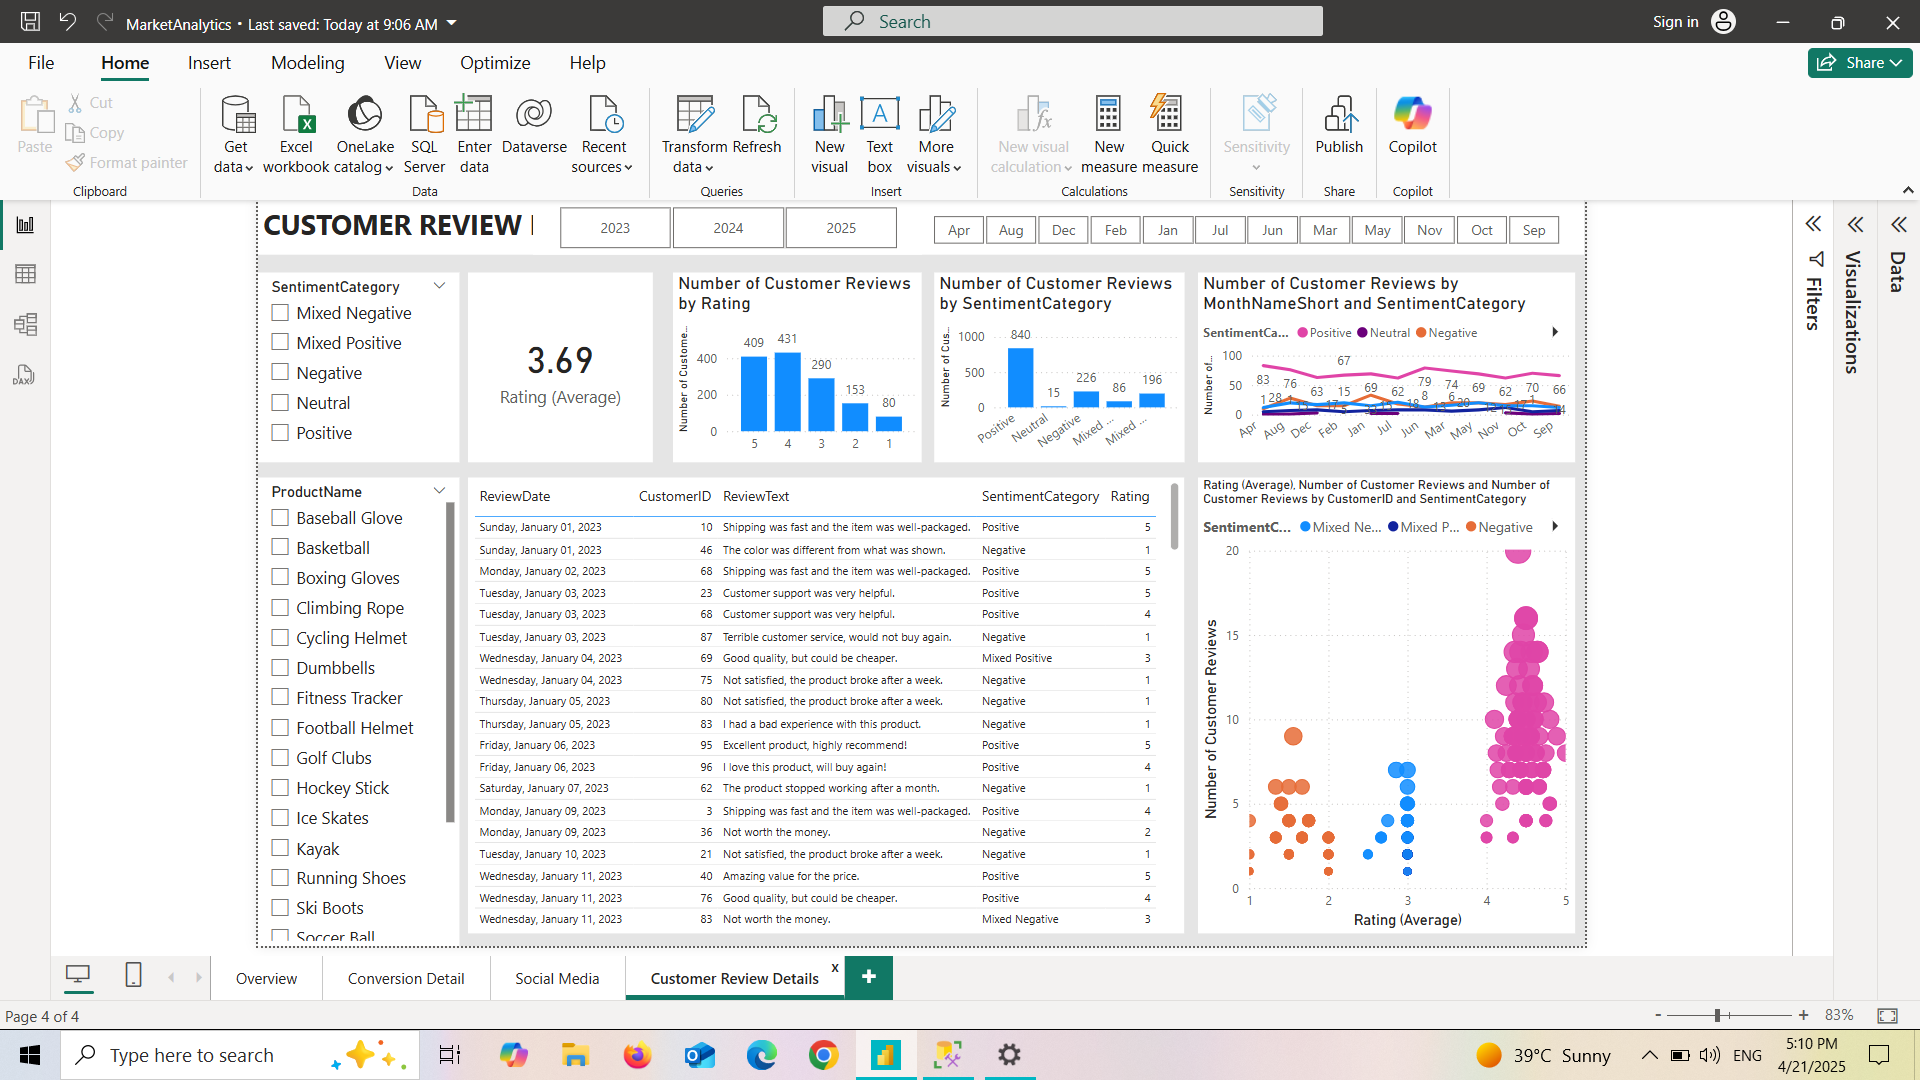

This screenshot's page, from the dashboard's own definition file:
{"tool":"powerbi","page":{"name":"Customer Review Details","canvas":[1280,720],"ordinal":3},"visuals":[{"type":"textbox","box":[0,0,1280,53.1],"z":0},{"type":"slicer","fields":{"Values":["dm_products.ProductName"]},"box":[0,267.8,194.2,452.4],"z":1000},{"type":"card","fields":{"Values":["_Calculations.Rating (Average)"]},"box":[202.7,70,178.6,183.4],"z":2000},{"type":"slicer","fields":{"Values":["Calendar.Year"]},"box":[265.4,0,375.2,53.1],"z":3000},{"type":"slicer","fields":{"Values":["Calendar.MonthNameShort"]},"box":[626.1,8.4,653.9,36.2],"z":4000},{"type":"clusteredColumnChart","fields":{"Y":["_Calculations.Number of Customer Reviews"],"Category":["Episode 3 - fact_customer_reviews_enrich.Rating"]},"box":[400.5,70,240.1,183.4],"z":5000},{"type":"clusteredColumnChart","fields":{"Y":["_Calculations.Number of Customer Reviews"],"Category":["Episode 3 - fact_customer_reviews_enrich.SentimentCategory"]},"box":[652.7,70,241.3,183.4],"z":6000},{"type":"lineChart","fields":{"Y":["_Calculations.Number of Customer Reviews"],"Series":["Episode 3 - fact_customer_reviews_enrich.SentimentCategory"],"Category":["Calendar.MonthNameShort"]},"box":[907.2,70,364.3,183.4],"z":7000},{"type":"tableEx","fields":{"Values":["Episode 3 - fact_customer_reviews_enrich.ReviewDate","Episode 3 - fact_customer_reviews_enrich.CustomerID","Episode 3 - fact_customer_reviews_enrich.ReviewText","Episode 3 - fact_customer_reviews_enrich.SentimentCategory","Episode 3 - fact_customer_reviews_enrich.Rating"]},"box":[202.7,267.8,691.3,440.4],"z":8000},{"type":"scatterChart","fields":{"X":["_Calculations.Rating (Average)"],"Y":["_Calculations.Number of Customer Reviews"],"Category":["dm_customers.CustomerID"],"Series":["Episode 3 - fact_customer_reviews_enrich.SentimentCategory"],"Size":["_Calculations.Number of Customer Reviews"]},"box":[907,268,364,440],"z":9000},{"type":"slicer","fields":{"Values":["Episode 3 - fact_customer_reviews_enrich.SentimentCategory"]},"box":[0,70,194.2,183.4],"z":10000}]}

Visuals, with their boxes on the page's 1280x720 design canvas (x1, y1, x2, y2). These are canvas units, not pixel positions in the 1920x1080 screenshot, which may show the page scaled, cropped or inside an application window:
textbox: Rect(0, 0, 1280, 53)
slicer - dm_products.ProductName: Rect(0, 268, 194, 720)
card - _Calculations.Rating (Average): Rect(203, 70, 381, 253)
slicer - Calendar.Year: Rect(265, 0, 641, 53)
slicer - Calendar.MonthNameShort: Rect(626, 8, 1280, 45)
clusteredColumnChart - _Calculations.Number of Customer Reviews x Episode 3 - fact_customer_reviews_enrich.Rating: Rect(400, 70, 641, 253)
clusteredColumnChart - _Calculations.Number of Customer Reviews x Episode 3 - fact_customer_reviews_enrich.SentimentCategory: Rect(653, 70, 894, 253)
lineChart - _Calculations.Number of Customer Reviews x Episode 3 - fact_customer_reviews_enrich.SentimentCategory: Rect(907, 70, 1272, 253)
tableEx - Episode 3 - fact_customer_reviews_enrich.ReviewDate x Episode 3 - fact_customer_reviews_enrich.CustomerID: Rect(203, 268, 894, 708)
scatterChart - _Calculations.Rating (Average) x _Calculations.Number of Customer Reviews: Rect(907, 268, 1271, 708)
slicer - Episode 3 - fact_customer_reviews_enrich.SentimentCategory: Rect(0, 70, 194, 253)
